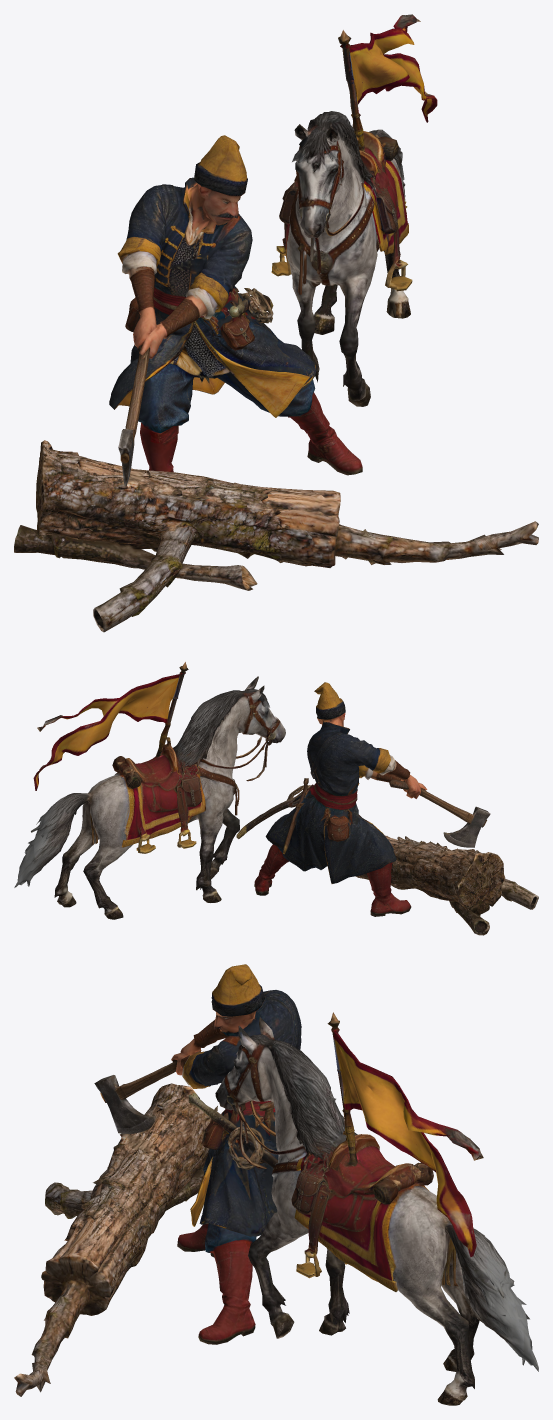
File: silahdar-bolugu-yol-acici-1550-1600-tripo-v2.glb
The picture shows the model from 3 angles, top to bottom: view 1: azimuth 30°, elevation 25°; view 2: azimuth 150°, elevation 25°; view 3: azimuth 270°, elevation 25°; orthographic projection. The views are drawn at different scales.
Parts seen in each view (by area): view 1: tripo_node_540c9784-9df1-444a-a756-9abf597da8b4; view 2: tripo_node_540c9784-9df1-444a-a756-9abf597da8b4; view 3: tripo_node_540c9784-9df1-444a-a756-9abf597da8b4.
Part boxes in pixels (x1,y1,x2,y2): tripo_node_540c9784-9df1-444a-a756-9abf597da8b4: (14,14,538,632); tripo_node_540c9784-9df1-444a-a756-9abf597da8b4: (14,662,538,935); tripo_node_540c9784-9df1-444a-a756-9abf597da8b4: (14,964,538,1405).
Size of the model in its own units: 1 by 0.6901 by 0.8654.
Materials: 1 (1 with a texture image).
